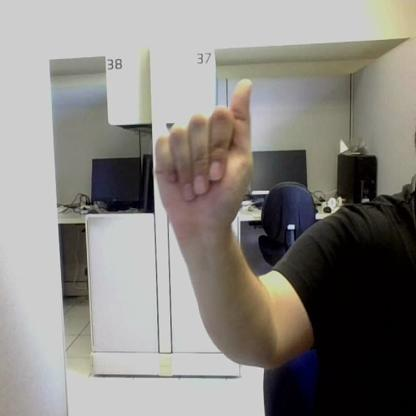A: (156, 78, 253, 223)
